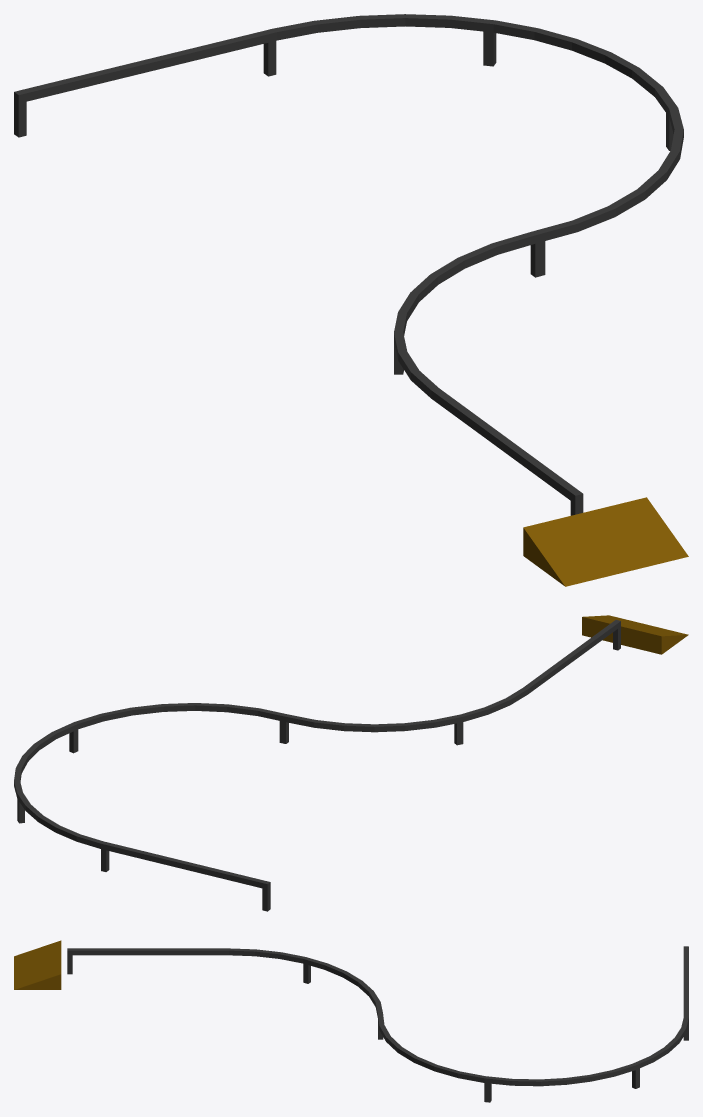
Rendered from CurveRail.fbx.
The picture shows the model from 3 angles, top to bottom: view 1: azimuth 30°, elevation 25°; view 2: azimuth 150°, elevation 25°; view 3: azimuth 270°, elevation 25°; orthographic projection. The views are drawn at different scales.
Visible parts, largest first — view 1: CurveRail; view 2: CurveRail; view 3: CurveRail.
Boxes of the visible parts, bbox=[...] form: CurveRail: bbox=[14, 14, 688, 586]; CurveRail: bbox=[14, 615, 688, 911]; CurveRail: bbox=[14, 940, 688, 1102].
Bounding box in the file's own units: 676 × 50.25 × 1294.
